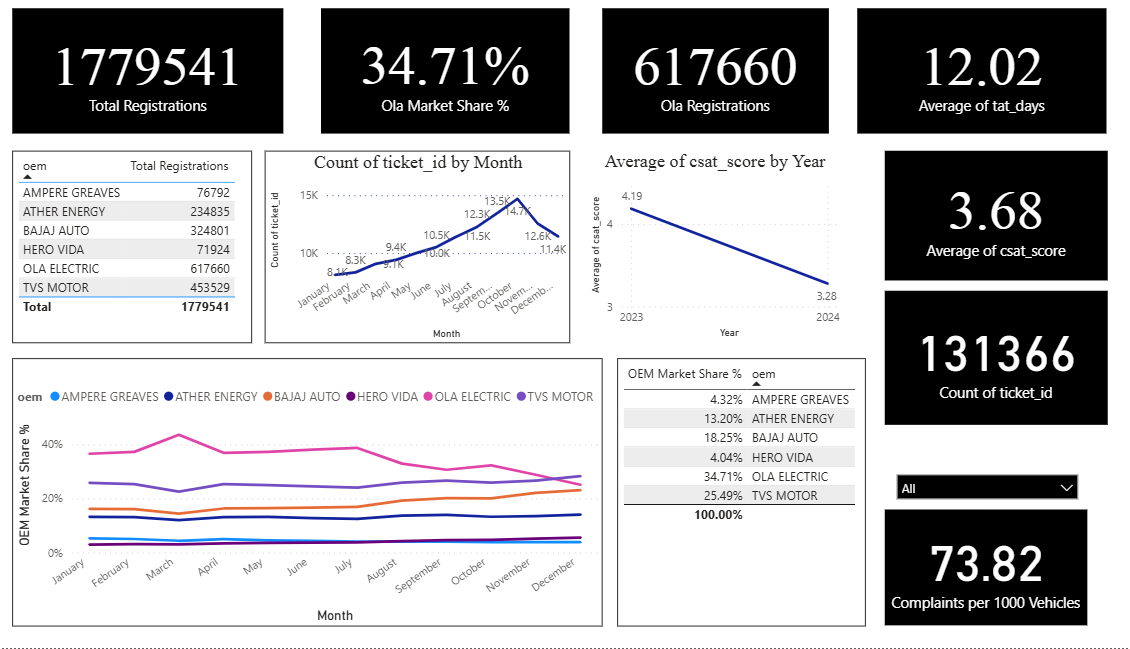

The page's visual inventory and layout, read from the dashboard file:
{"tool":"powerbi","page":{"name":"Page 1","canvas":[1280,720],"ordinal":0},"visuals":[{"type":"card","title":"Total Registrations for all OEM","fields":{"Values":["public dim_city.Total Registrations"]},"box":[18.1,18.1,297.9,137.5],"z":0},{"type":"card","fields":{"Values":["public dim_city.Ola Registrations"]},"box":[665.7,18.1,248.4,137.5],"z":1000},{"type":"card","fields":{"Values":["public dim_city.Ola Market Share %"]},"box":[358.2,18.1,272.6,137.5],"z":2000},{"type":"tableEx","fields":{"Values":["public dim_oem.oem","public dim_city.Total Registrations"]},"box":[18.1,173.7,262.9,211.1],"z":3000},{"type":"tableEx","fields":{"Values":["public dim_city.OEM Market Share %","public dim_oem.oem"]},"box":[682.6,401.6,272.6,294.3],"z":4000},{"type":"lineChart","fields":{"Y":["public dim_city.OEM Market Share %"],"Series":["public dim_oem.oem"],"Category":["public dim_date.date_key.Variation.Date Hierarchy.Month"]},"box":[18.1,401.6,647.6,294.3],"z":5000},{"type":"lineChart","fields":{"Y":["CountNonNull(public fact_complaints.ticket_id)"],"Category":["public dim_date.date_key.Variation.Date Hierarchy.Month"]},"box":[295.5,173.7,335.3,211.1],"z":6000},{"type":"card","fields":{"Values":["Avg(public fact_complaints.tat_days)"]},"box":[945.5,18.1,273.8,137.5],"z":7000},{"type":"card","fields":{"Values":["Avg(public fact_complaints.csat_score)"]},"box":[975.7,173.7,244.8,142.3],"z":8000},{"type":"slicer","fields":{"Values":["public dim_date.date_key.Variation.Date Hierarchy.Year","public dim_date.date_key.Variation.Date Hierarchy.Month","public dim_date.date_key.Variation.Date Hierarchy.Day"]},"box":[978.4,500.9,219.6,86.4],"z":9000},{"type":"lineChart","fields":{"Category":["public dim_date.date_key.Variation.Date Hierarchy.Year","public dim_date.date_key.Variation.Date Hierarchy.Quarter","public dim_date.date_key.Variation.Date Hierarchy.Month","public dim_date.date_key.Variation.Date Hierarchy.Day"],"Y":["Avg(public fact_complaints.csat_score)"]},"box":[647.6,173.7,283.4,211.1],"z":10000},{"type":"card","fields":{"Values":["Count(public fact_complaints.ticket_id)"]},"box":[975.7,328,244.8,147.1],"z":11000},{"type":"card","fields":{"Values":["public dim_date.Complaints per 1000 Vehicles"]},"box":[976.2,567.5,222.5,127.5],"z":12002}]}

Visuals, with their boxes in screenshot pixels (x1, y1, x2, y2), scaled from the page's 1280x720 canvas onto the 1130x649 screenshot:
"Total Registrations for all OEM" card: BBox(16, 16, 279, 140)
card - public dim_city.Ola Registrations: BBox(588, 16, 807, 140)
card - public dim_city.Ola Market Share %: BBox(316, 16, 557, 140)
tableEx - public dim_oem.oem x public dim_city.Total Registrations: BBox(16, 157, 248, 347)
tableEx - public dim_city.OEM Market Share % x public dim_oem.oem: BBox(603, 362, 843, 627)
lineChart - public dim_city.OEM Market Share % x public dim_oem.oem: BBox(16, 362, 588, 627)
lineChart - CountNonNull(public fact_complaints.ticket_id) x public dim_date.date_key.Variation.Date Hierarchy.Month: BBox(261, 157, 557, 347)
card - Avg(public fact_complaints.tat_days): BBox(835, 16, 1076, 140)
card - Avg(public fact_complaints.csat_score): BBox(861, 157, 1077, 285)
slicer - public dim_date.date_key.Variation.Date Hierarchy.Year x public dim_date.date_key.Variation.Date Hierarchy.Month: BBox(864, 452, 1058, 529)
lineChart - public dim_date.date_key.Variation.Date Hierarchy.Year x public dim_date.date_key.Variation.Date Hierarchy.Quarter: BBox(572, 157, 822, 347)
card - Count(public fact_complaints.ticket_id): BBox(861, 296, 1077, 428)
card - public dim_date.Complaints per 1000 Vehicles: BBox(862, 512, 1058, 626)
